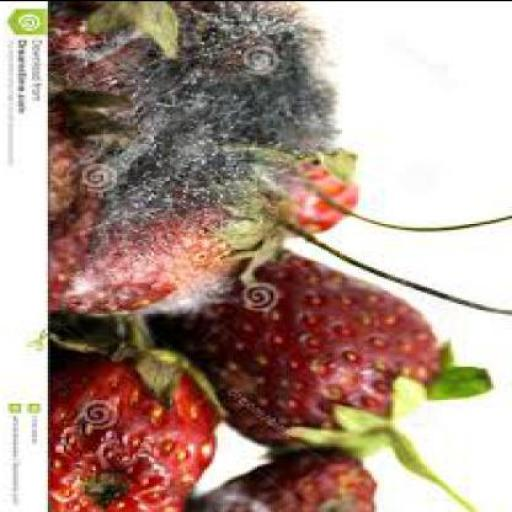biodegradable: (178, 244, 495, 510), (50, 317, 228, 510), (160, 1, 342, 148), (50, 194, 239, 312), (53, 86, 146, 305), (53, 0, 183, 92), (194, 445, 376, 510), (276, 146, 363, 236)
